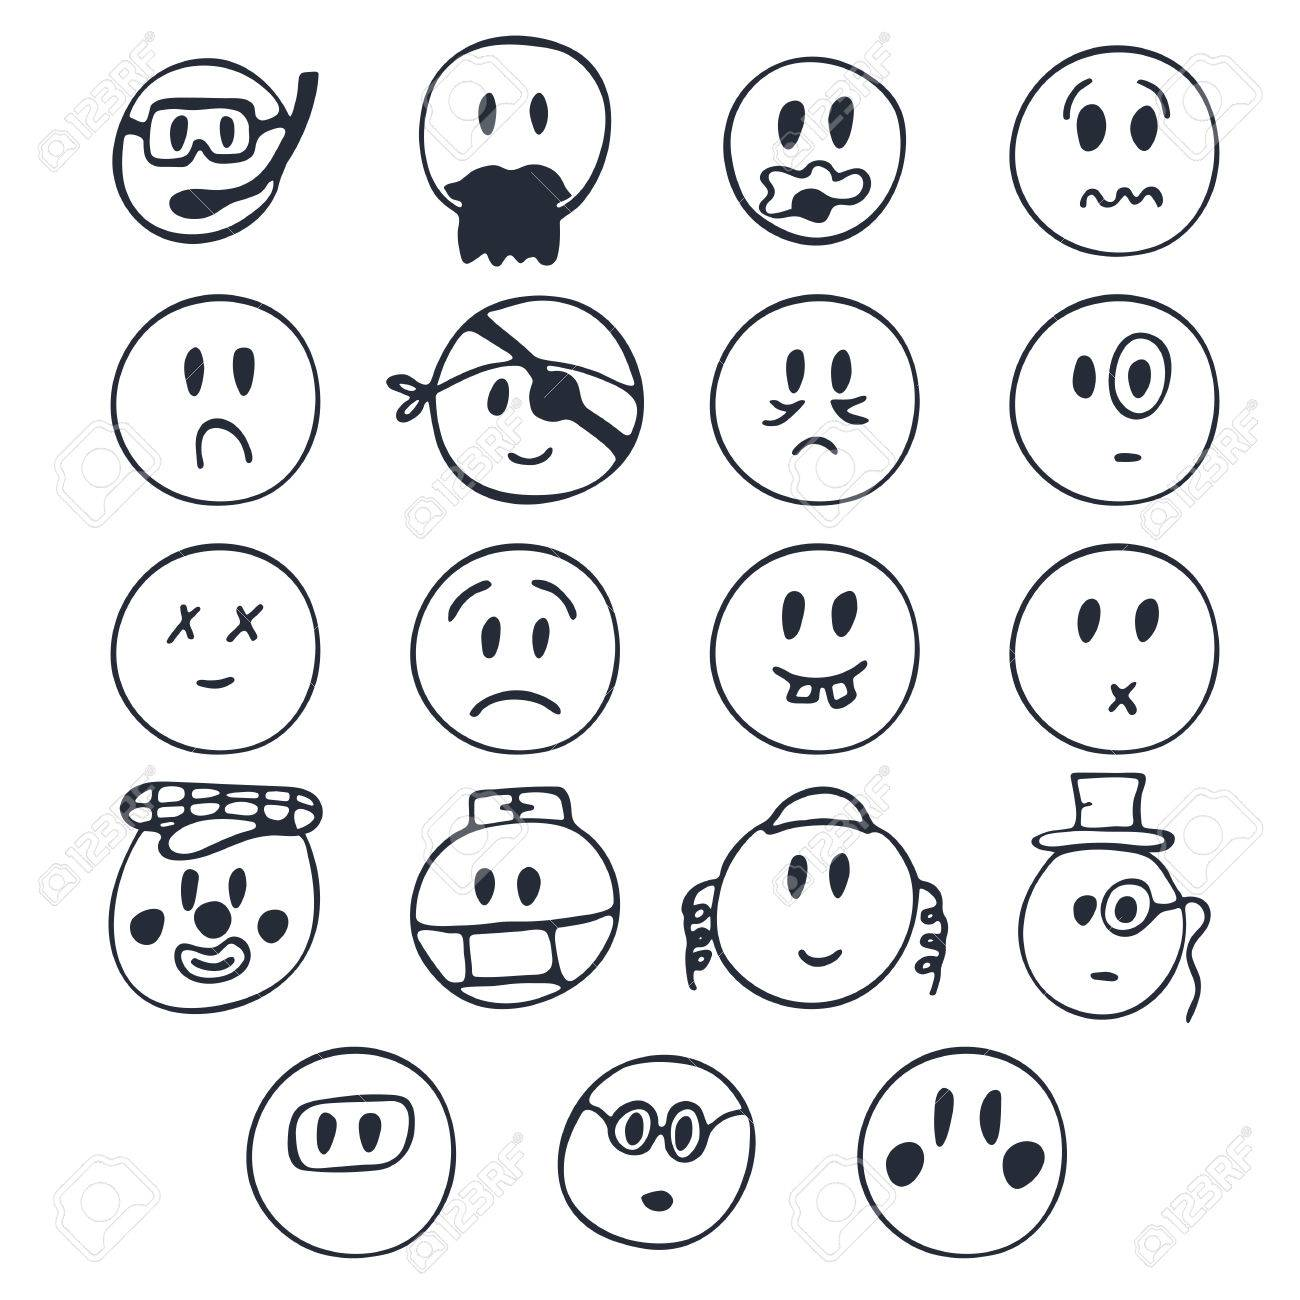triste: (987, 279, 1246, 540), (81, 296, 337, 512), (396, 538, 635, 764), (440, 574, 585, 726), (157, 348, 269, 482), (1060, 338, 1171, 468), (769, 354, 865, 476)
